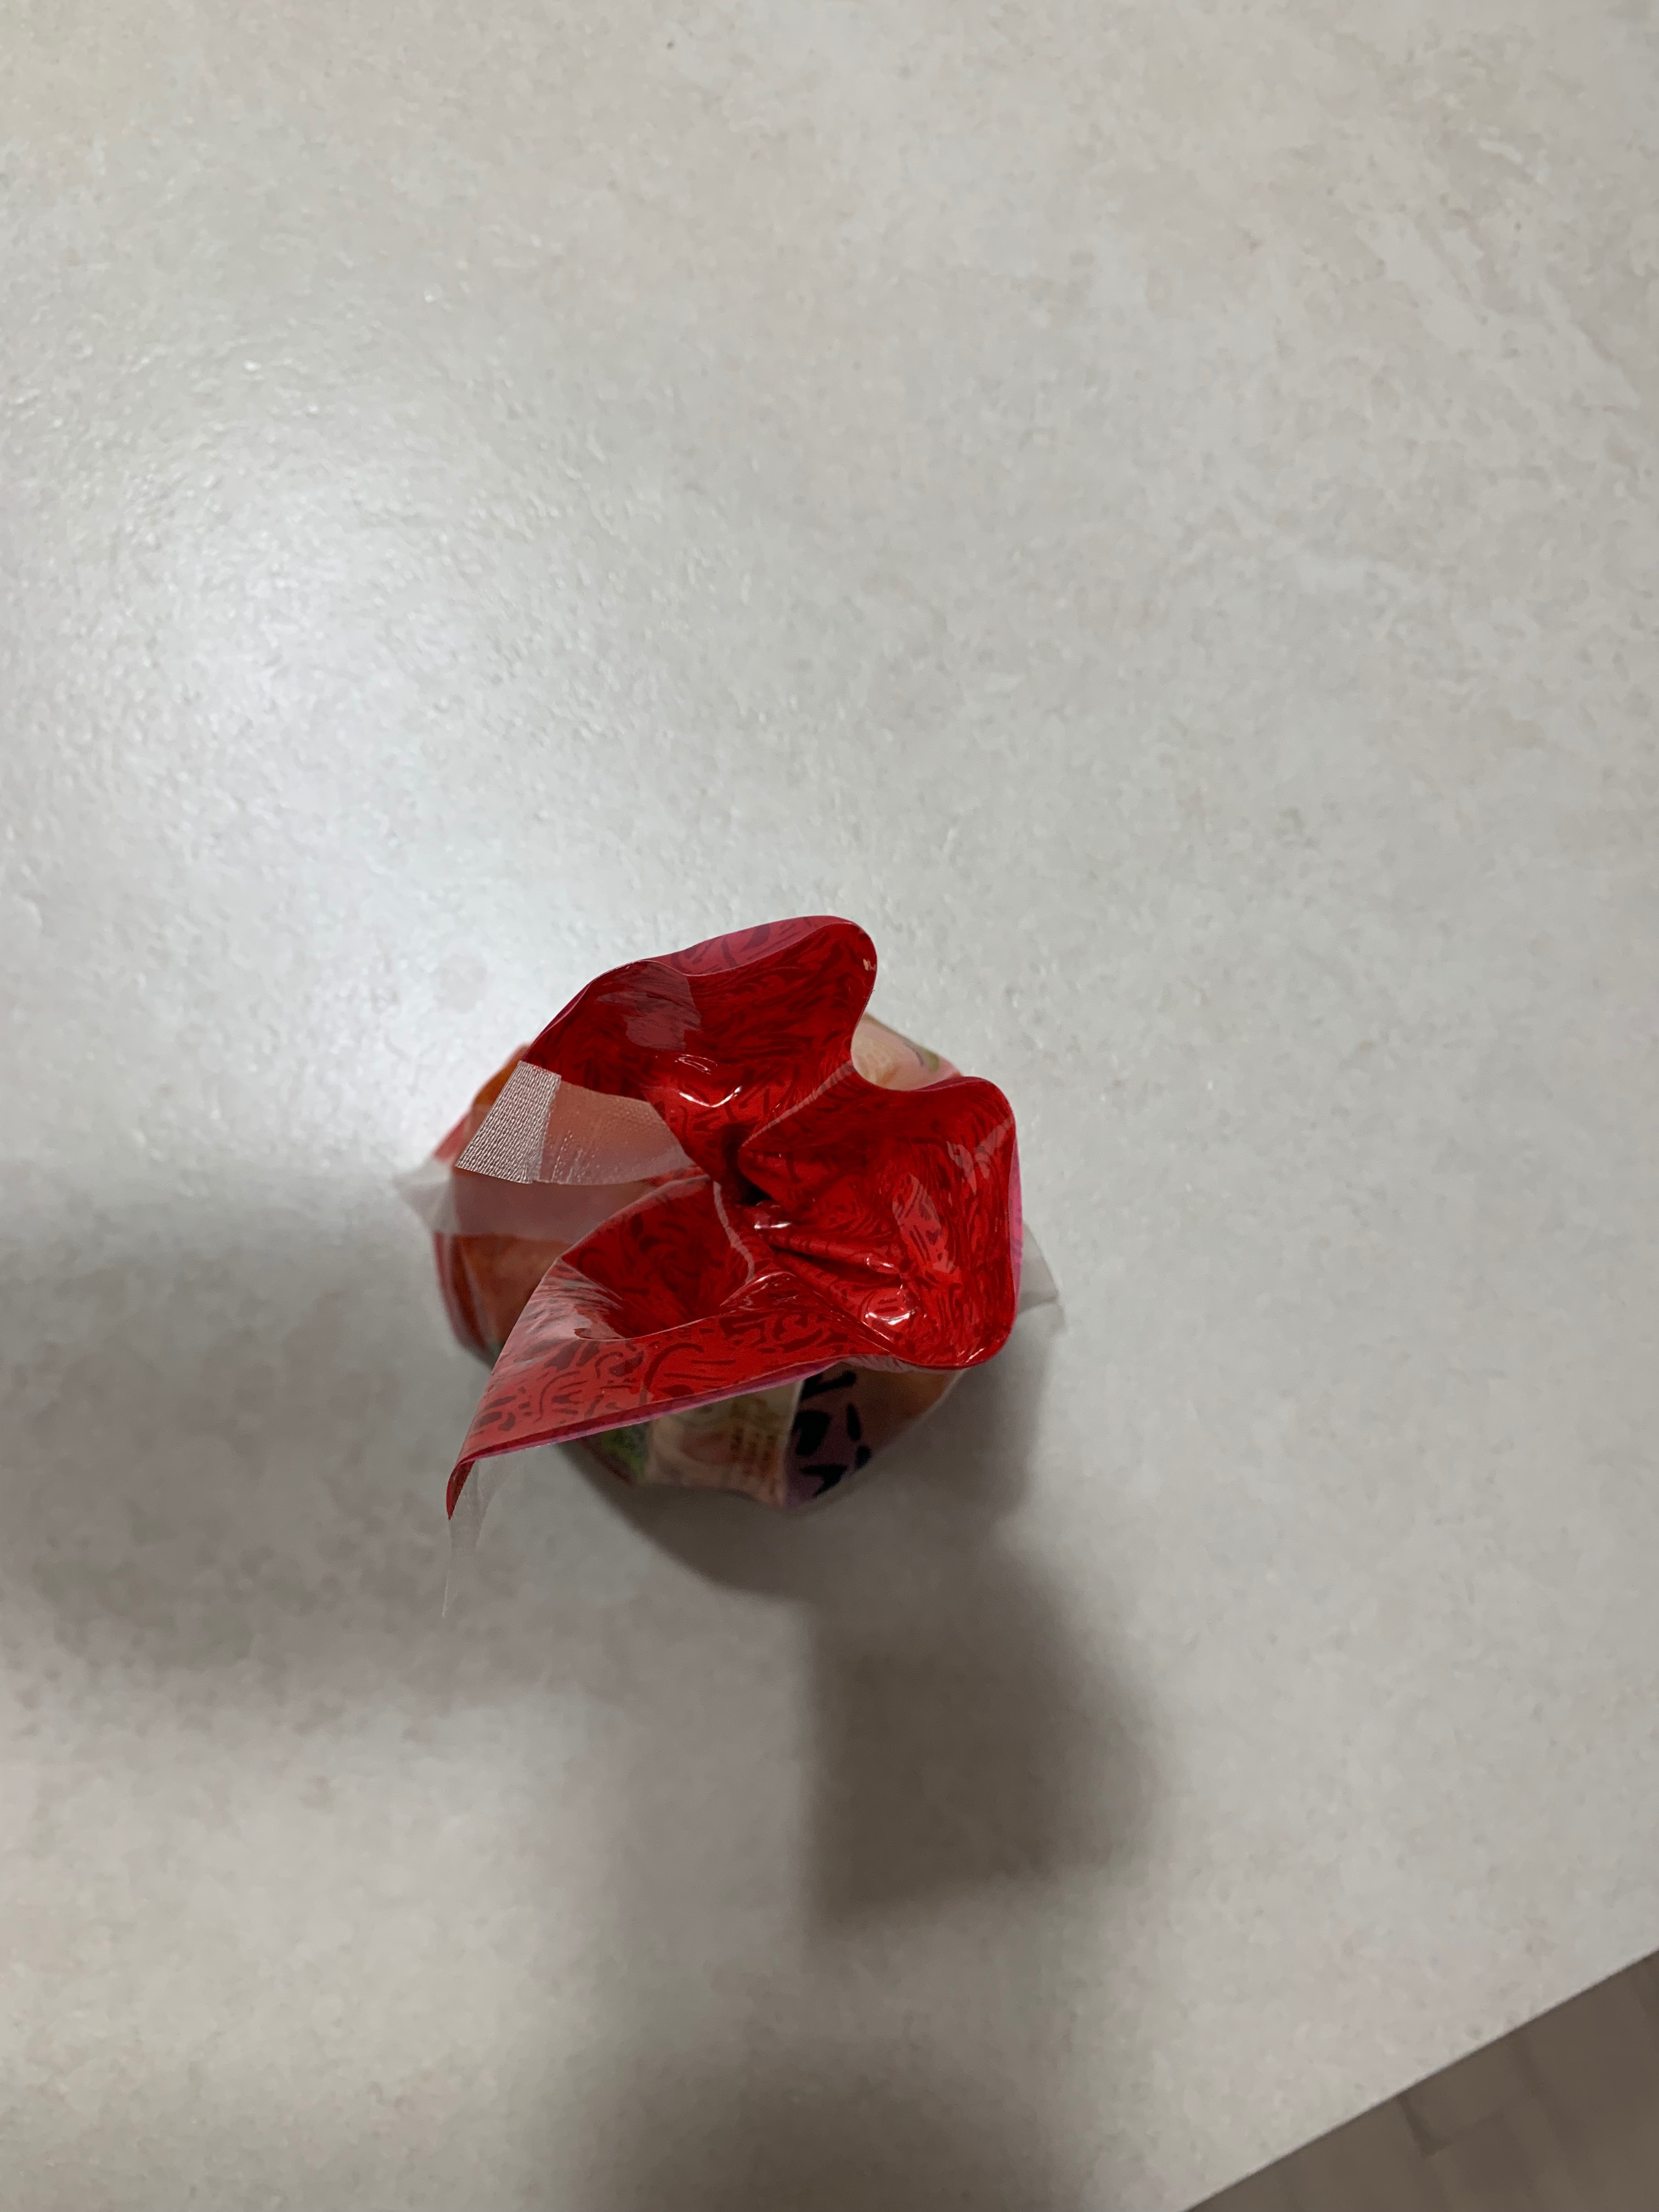kimchi: (385, 914, 1026, 1540)
